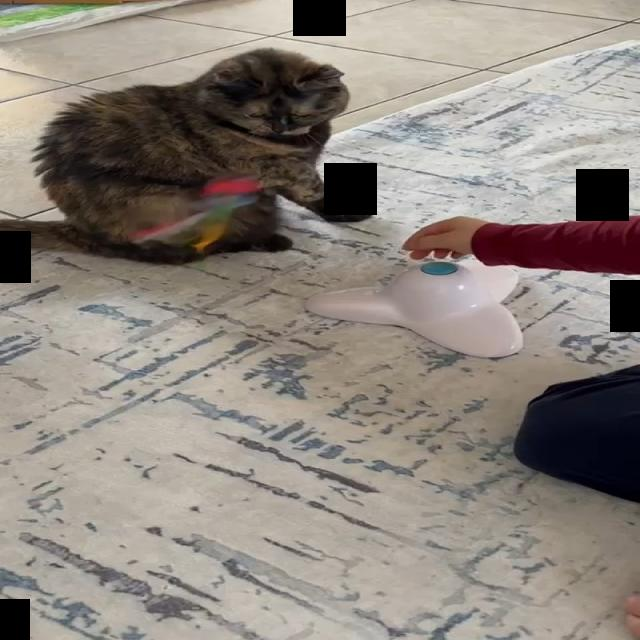authorized: (0, 46, 372, 265)
